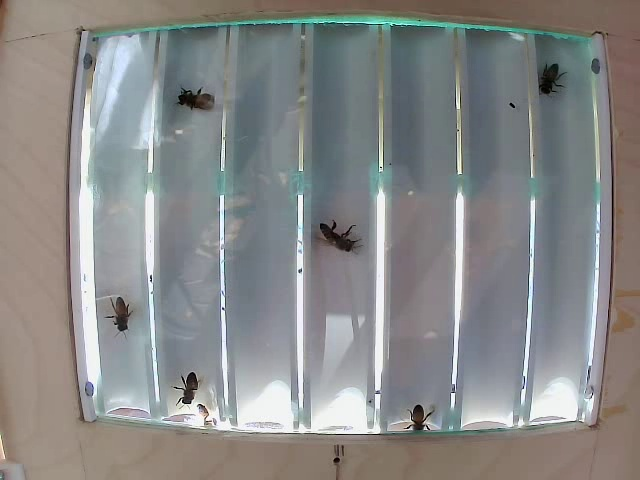bee: (305, 217, 365, 255), (97, 292, 139, 342), (401, 399, 439, 444), (168, 81, 212, 113), (165, 366, 202, 396)
